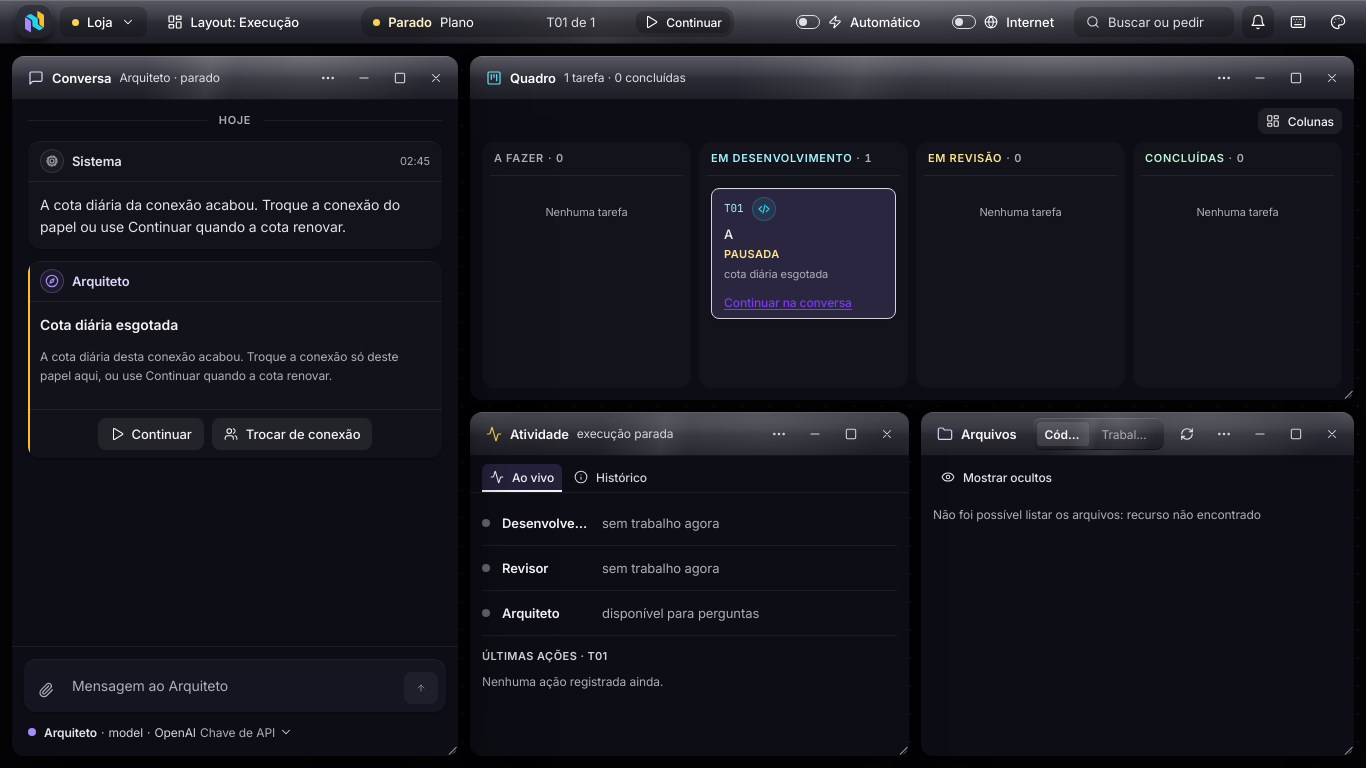
pausa pelos limites do provedor (spec 132 T09/T10) › cota diária do Gemini: esperar o dia virar ou trocar de conexão, que abre Agentes
Expected: the heading "Cota diária esgotada" is shown, [40, 316, 178, 333]
Expected: the element that starts with "Arquiteto" shows "use Continuar quando a cota renovar", [40, 349, 398, 383]
Click the button "Trocar de conexão" at (292, 434), box [212, 418, 372, 450]
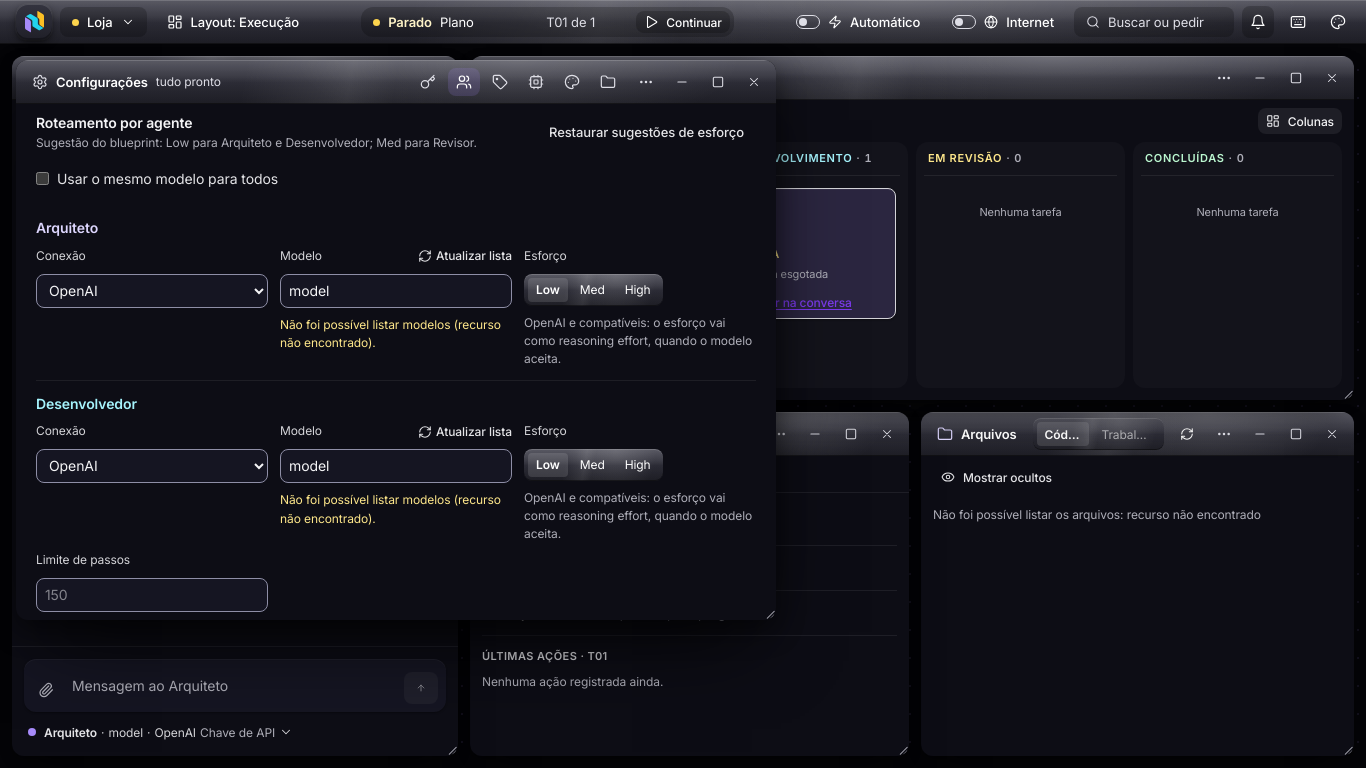
Result: the tab named "Agentes" is shown at [448, 68, 480, 96]
